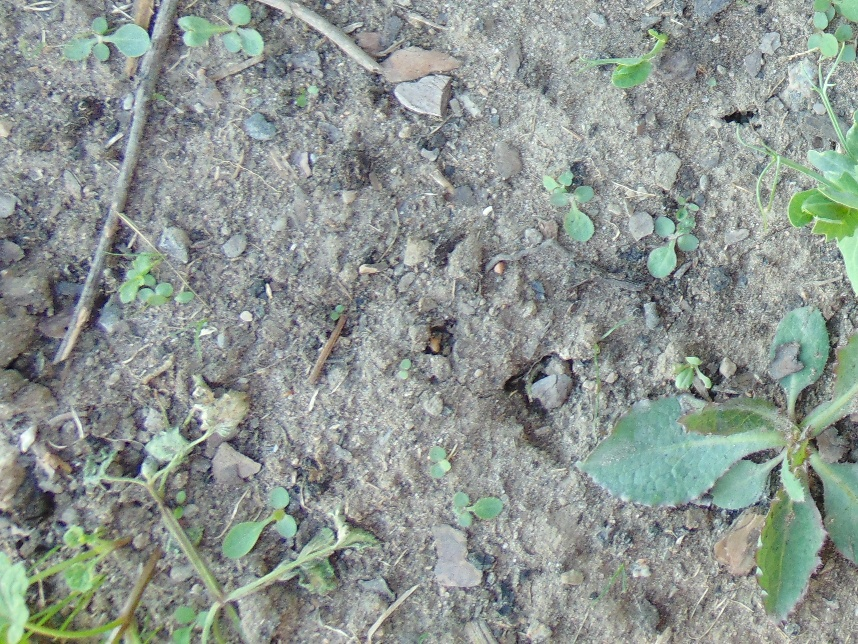weed: (593, 307, 858, 620), (1, 512, 162, 644), (221, 486, 295, 558), (58, 14, 149, 63), (176, 4, 267, 53), (647, 197, 700, 278), (542, 167, 595, 248), (118, 254, 194, 303), (810, 1, 858, 59), (168, 603, 215, 644), (453, 493, 501, 527), (429, 443, 457, 477)
